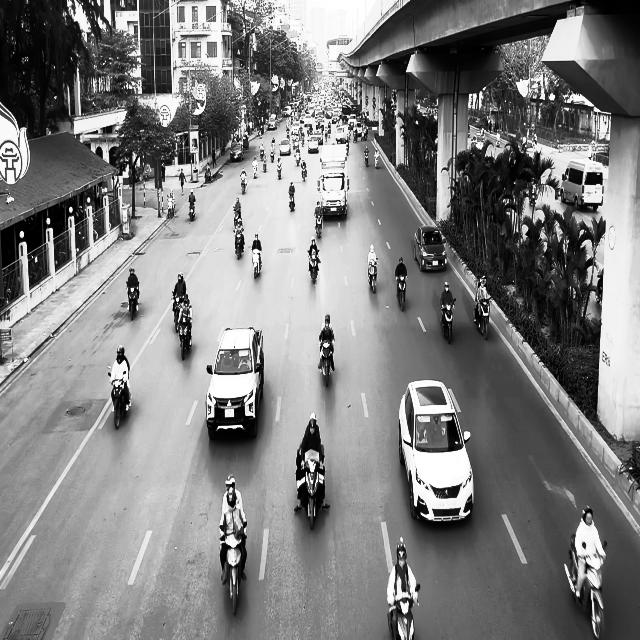car: (398, 379, 474, 523), (206, 326, 264, 440), (413, 225, 447, 272), (230, 141, 243, 161)
motorbike: (564, 534, 607, 639), (219, 521, 247, 615), (298, 444, 325, 529), (387, 583, 420, 640), (107, 366, 131, 429), (473, 296, 492, 340), (318, 339, 334, 386), (440, 297, 456, 343), (176, 316, 192, 360), (126, 282, 139, 320), (395, 274, 408, 311), (308, 249, 320, 283), (367, 259, 378, 293), (251, 246, 262, 278), (234, 230, 244, 259), (314, 212, 323, 237), (167, 196, 175, 218), (188, 199, 196, 220), (288, 191, 295, 211), (240, 174, 247, 194), (301, 161, 307, 181), (252, 162, 258, 178), (276, 163, 282, 179)
truck: (318, 143, 350, 220), (560, 156, 604, 211)
